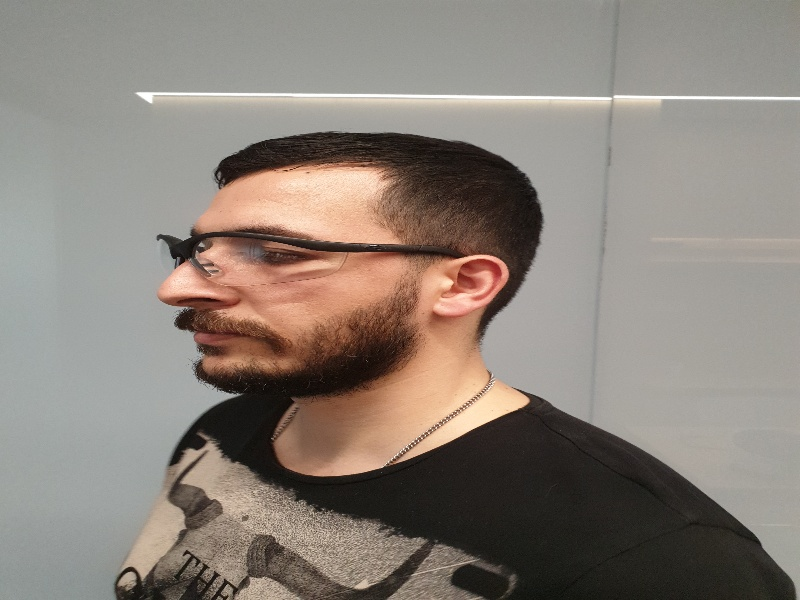Gozluk: (157, 231, 480, 277)
